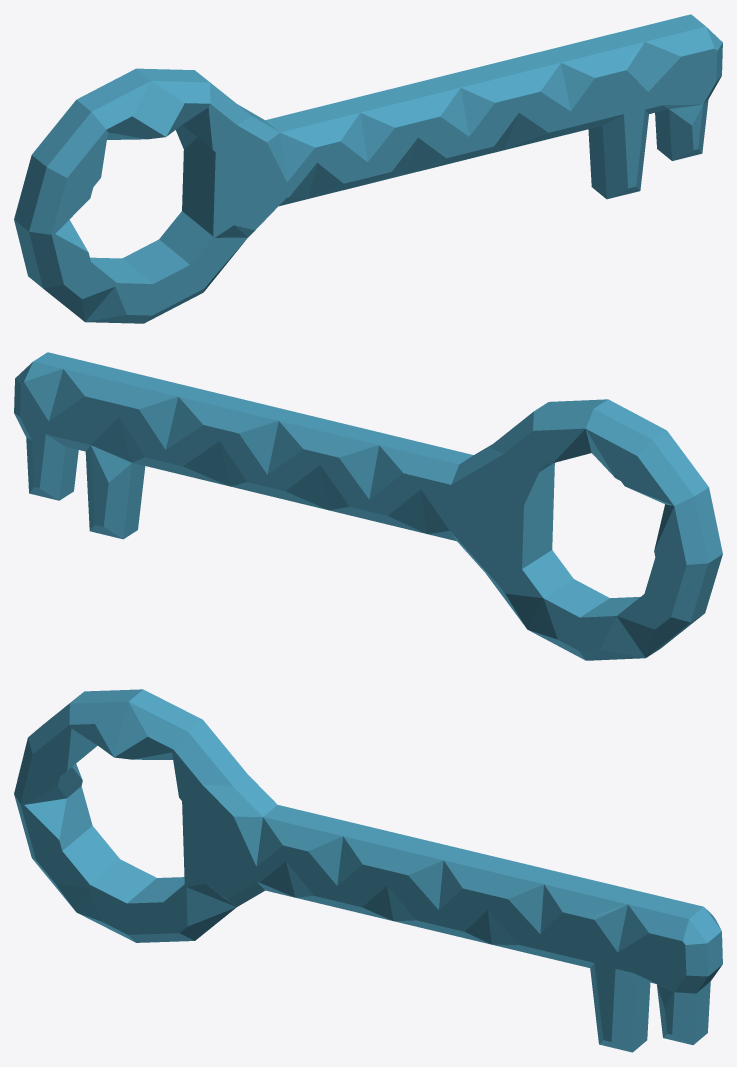
File: blue_key.glb
3 views of the same model, one above another, from view 1: azimuth 30°, elevation 25°; view 2: azimuth 150°, elevation 25°; view 3: azimuth 330°, elevation 25° (orthographic).
Visible parts, largest first — view 1: Circle.024; view 2: Circle.024; view 3: Circle.024.
Part boxes in pixels (box(x1,y1,x2,y2)): Circle.024: box(14, 14, 722, 323); Circle.024: box(14, 352, 722, 660); Circle.024: box(14, 689, 722, 1052).
Size of the model in its own units: 1.89 by 0.6483 by 0.217.
Materials: 1 (1 with a texture image).
